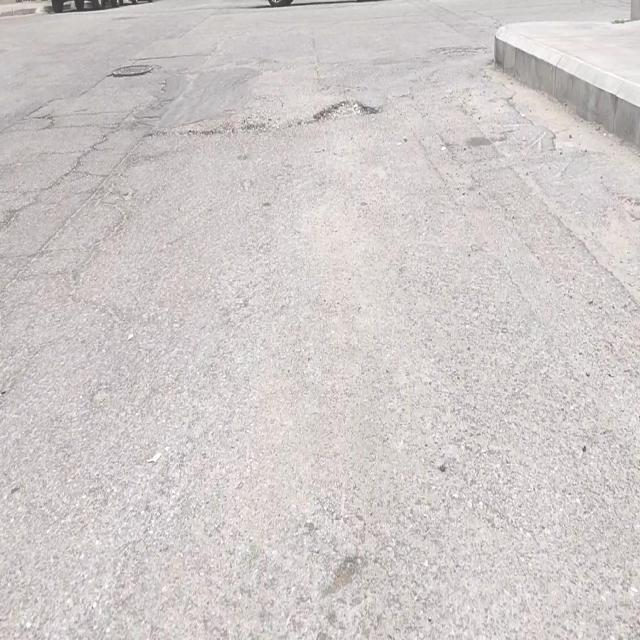Potholes: (312, 99, 379, 124)
